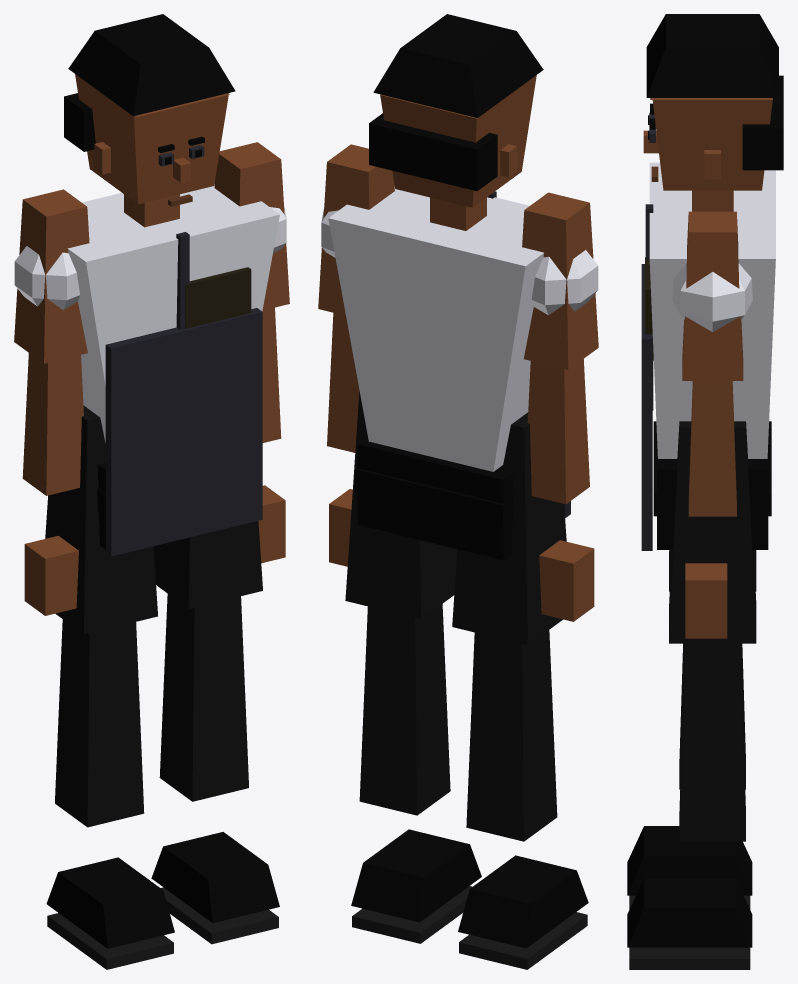
Rendered from npc_chef.glb.
3 views of the same model, side by side, from view 1: azimuth 30°, elevation 25°; view 2: azimuth 150°, elevation 25°; view 3: azimuth 270°, elevation 25° (orthographic).
Parts seen in each view (by area): view 1: torso, head, lowerLegL, lowerLegR, foreArmR, upperLegR, upperArmR, footR, footL, upperLegL, upperArmL, foreArmL (+1 smaller); view 2: torso, head, lowerLegL, lowerLegR, hips, upperLegR, foreArmR, upperArmR, footR, footL, upperLegL, upperArmL (+1 smaller); view 3: head, torso, lowerLegL, footL, upperArmL, upperLegL, foreArmL, footR, hips, lowerLegR.
Boxes of the visible parts, left/top/right/bottom form: torso: left=67, top=184, right=279, bottom=556; head: left=64, top=14, right=235, bottom=206; lowerLegL: left=159, top=594, right=248, bottom=801; lowerLegR: left=55, top=619, right=144, bottom=827; foreArmR: left=22, top=353, right=83, bottom=615; upperLegR: left=45, top=405, right=157, bottom=634; upperArmR: left=14, top=189, right=89, bottom=363; footR: left=46, top=857, right=174, bottom=969; footL: left=151, top=832, right=279, bottom=944; upperLegL: left=153, top=521, right=262, bottom=608; upperArmL: left=214, top=142, right=289, bottom=310; foreArmL: left=258, top=307, right=285, bottom=563; torso: left=328, top=187, right=570, bottom=517; head: left=369, top=14, right=543, bottom=207; lowerLegL: left=359, top=604, right=450, bottom=815; lowerLegR: left=466, top=630, right=557, bottom=841; hips: left=355, top=437, right=513, bottom=560; upperLegR: left=452, top=412, right=566, bottom=645; foreArmR: left=527, top=359, right=594, bottom=621; upperArmR: left=522, top=192, right=598, bottom=369; footR: left=458, top=855, right=588, bottom=969; footL: left=351, top=829, right=481, bottom=943; upperLegL: left=345, top=390, right=457, bottom=619; upperArmL: left=318, top=144, right=394, bottom=315; head: left=643, top=14, right=783, bottom=190; torso: left=641, top=162, right=775, bottom=550; lowerLegL: left=679, top=643, right=745, bottom=841; footL: left=627, top=878, right=752, bottom=969; upperArmL: left=672, top=211, right=752, bottom=380; upperLegL: left=669, top=421, right=756, bottom=643; foreArmL: left=685, top=381, right=736, bottom=638; footR: left=627, top=826, right=752, bottom=909; hips: left=653, top=421, right=771, bottom=549; lowerLegR: left=679, top=643, right=745, bottom=789.
Bounding box in the file's own units: 0.551 × 1.78 × 0.2809.
